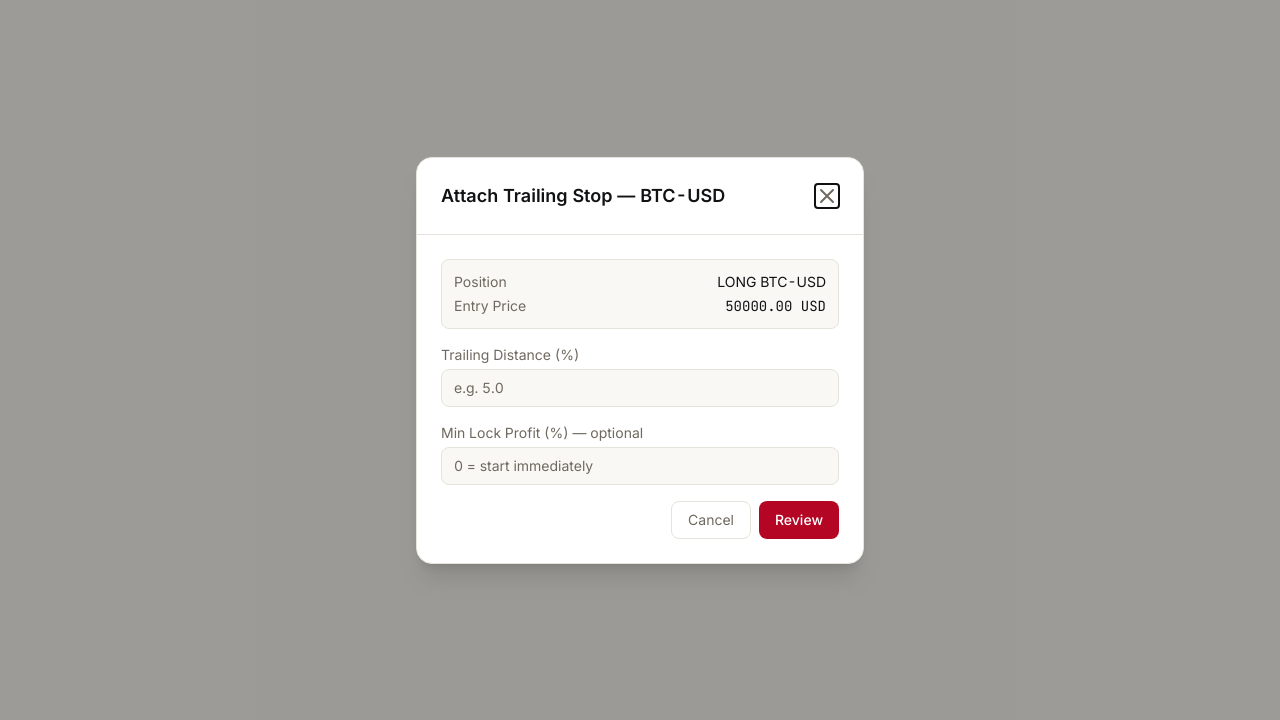
Scenario: AttachTrailingStopModal › shows validation error for empty trailing pct
Click the button with test id "trailing-stop-submit" at [799, 520], box [759,500,839,538]
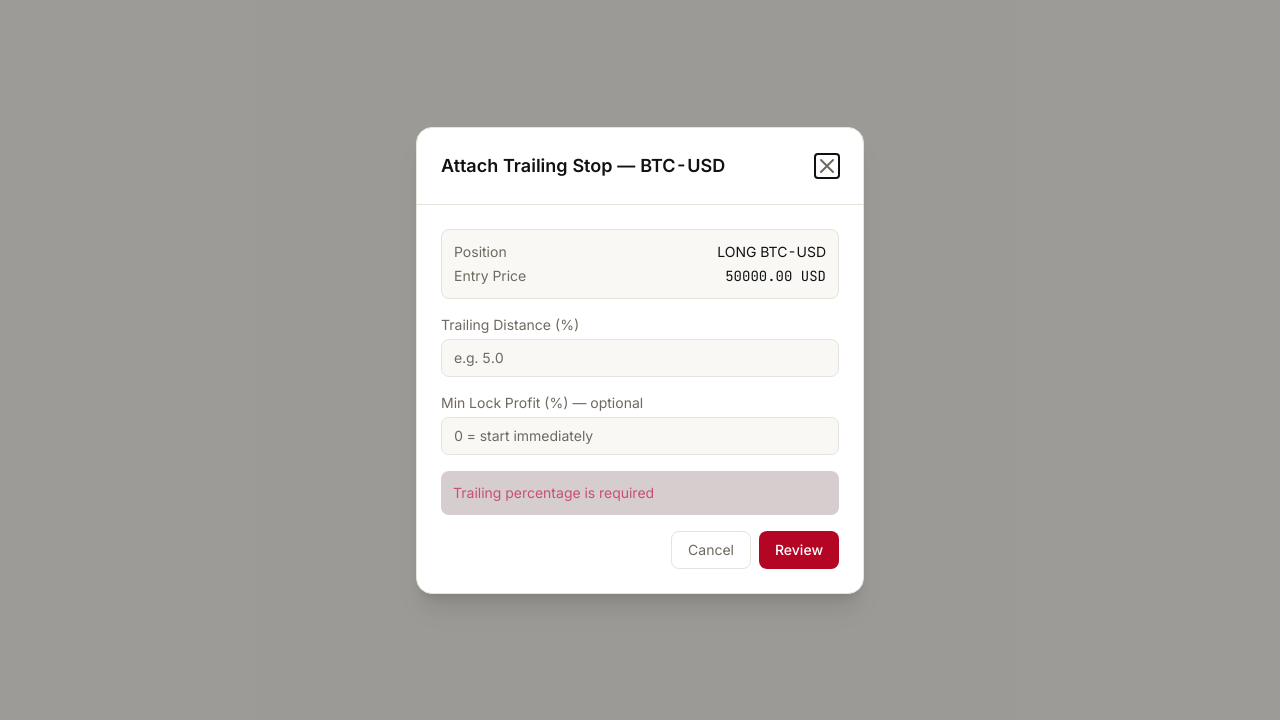
expect the text with test id "trailing-stop-error" reads "Trailing percentage is required": met, box [453,484,654,500]
